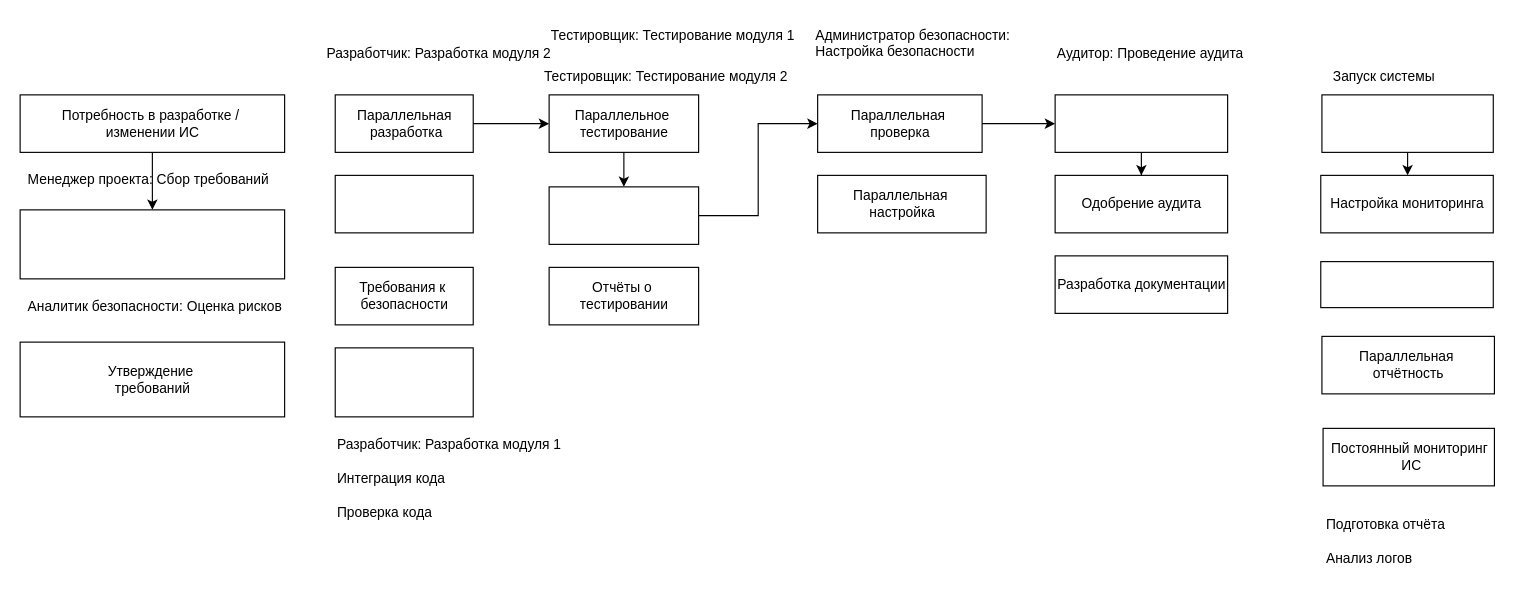
This 1524x608 diagram has some shape labels left out. Each missing label, with the centre of its shape:
"Выбор архитектуры" belongs at [403,203].
"Код программы" belongs at [403,382].
"Логи мониторинга" belongs at [1406,284].
"Оценка рисков" belongs at [152,244].
"Проведение аудита" belongs at [1141,123].
"Решение о мониторинге" belongs at [1407,123].
"Успешное тестирование" belongs at [623,215].
